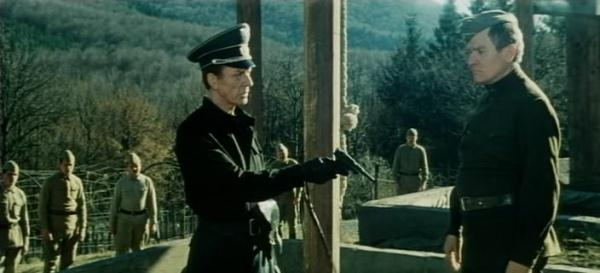Gun: (334, 147, 378, 184)
